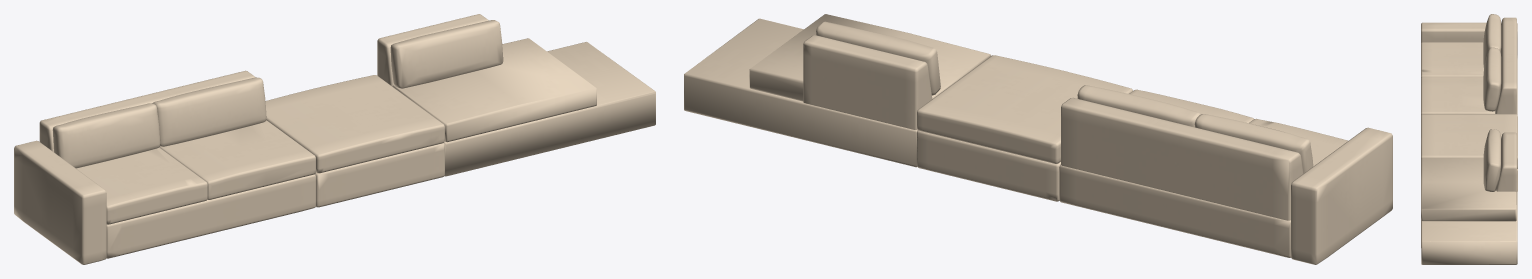
Rendered from sofa-modelo-quatro-lugares.glb.
The picture shows the model from 3 angles, left to right: view 1: azimuth 30°, elevation 25°; view 2: azimuth 150°, elevation 25°; view 3: azimuth 270°, elevation 25°; orthographic projection. The views are drawn at different scales.
Visible parts, largest first — view 1: Modelo Quatro Lugares; view 2: Modelo Quatro Lugares; view 3: Modelo Quatro Lugares.
Part boxes in pixels (box(x1,y1,x2,y2)): Modelo Quatro Lugares: box(14, 14, 655, 264); Modelo Quatro Lugares: box(684, 14, 1392, 264); Modelo Quatro Lugares: box(1421, 14, 1517, 264).
Size of the model in its own units: 4.9 by 0.7742 by 1.03.
Materials: 1 (1 with a texture image).
